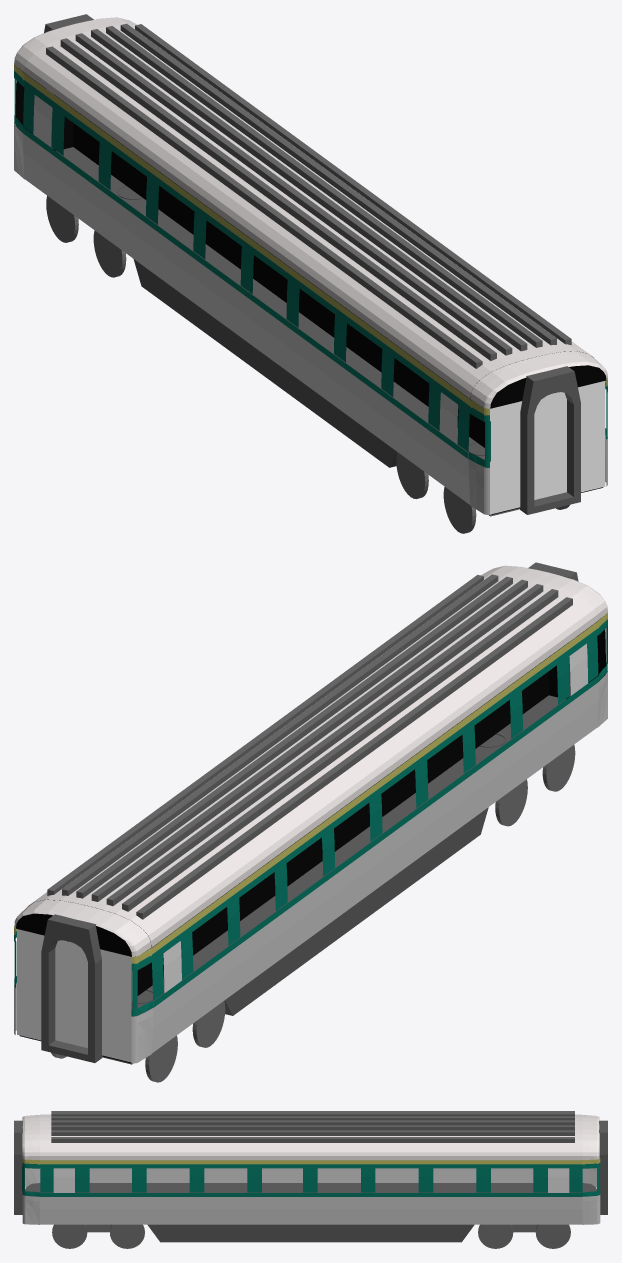
Rendered from br-mk3-fo-gwt.dae.
3 views of the same model, one above another, from view 1: azimuth 30°, elevation 25°; view 2: azimuth 150°, elevation 25°; view 3: azimuth 270°, elevation 25° (orthographic). The views are drawn at different scales.
Visible parts, largest first — view 1: Suzanne_001, Plane_007, Plane_001, Plane_111, Cube_010, Cube, Cube_011, Cube_008, Cube_009, Cube_004, Plane_002, Cube_002 (+15 smaller); view 2: Suzanne_001, Plane_007, Plane_100, Plane_111, Cube, Cube_010, Cube_011, Cube_008, Cube_009, Cube_004, Plane_002, Cube_002 (+14 smaller); view 3: Plane_134, Suzanne_001, Cube, Plane_007, Plane_002, Cube_002, Cube_003, Cube_004, Cube_008, Plane_135, Plane_136, Cube_009 (+32 smaller).
Part boxes in pixels (x1,y1,x2,y2): Suzanne_001: (24,24,593,398); Plane_007: (23,140,470,504); Plane_001: (490,381,605,514); Plane_111: (73,109,484,447); Cube_010: (60,38,496,360); Cube: (133,259,396,467); Cube_011: (46,46,482,368); Cube_008: (91,29,527,351); Cube_009: (75,33,512,355); Cube_004: (106,26,542,347); Plane_002: (56,147,489,468); Cube_002: (120,23,556,345); Suzanne_001: (28,573,596,947); Plane_007: (151,688,598,1053); Plane_100: (17,929,132,1062); Plane_111: (135,657,548,995); Cube: (224,807,488,1015); Cube_010: (122,589,558,911); Cube_011: (136,597,572,919); Cube_008: (91,579,527,901); Cube_009: (106,584,543,906); Cube_004: (76,576,512,898); Plane_002: (133,695,565,1016); Cube_002: (62,574,498,895); Plane_134: (40,1201,582,1224); Suzanne_001: (40,1114,582,1159); Cube: (147,1224,474,1242); Plane_007: (40,1168,533,1182); Plane_002: (25,1183,596,1196); Cube_002: (51,1130,574,1135); Cube_003: (51,1137,574,1142); Cube_004: (51,1125,574,1130); Cube_008: (51,1120,574,1125); Plane_135: (40,1160,582,1164); Plane_136: (40,1164,582,1168); Cube_009: (51,1116,574,1120).
Bounding box in the file's own units: 2.08 × 13.39 × 2.81.
